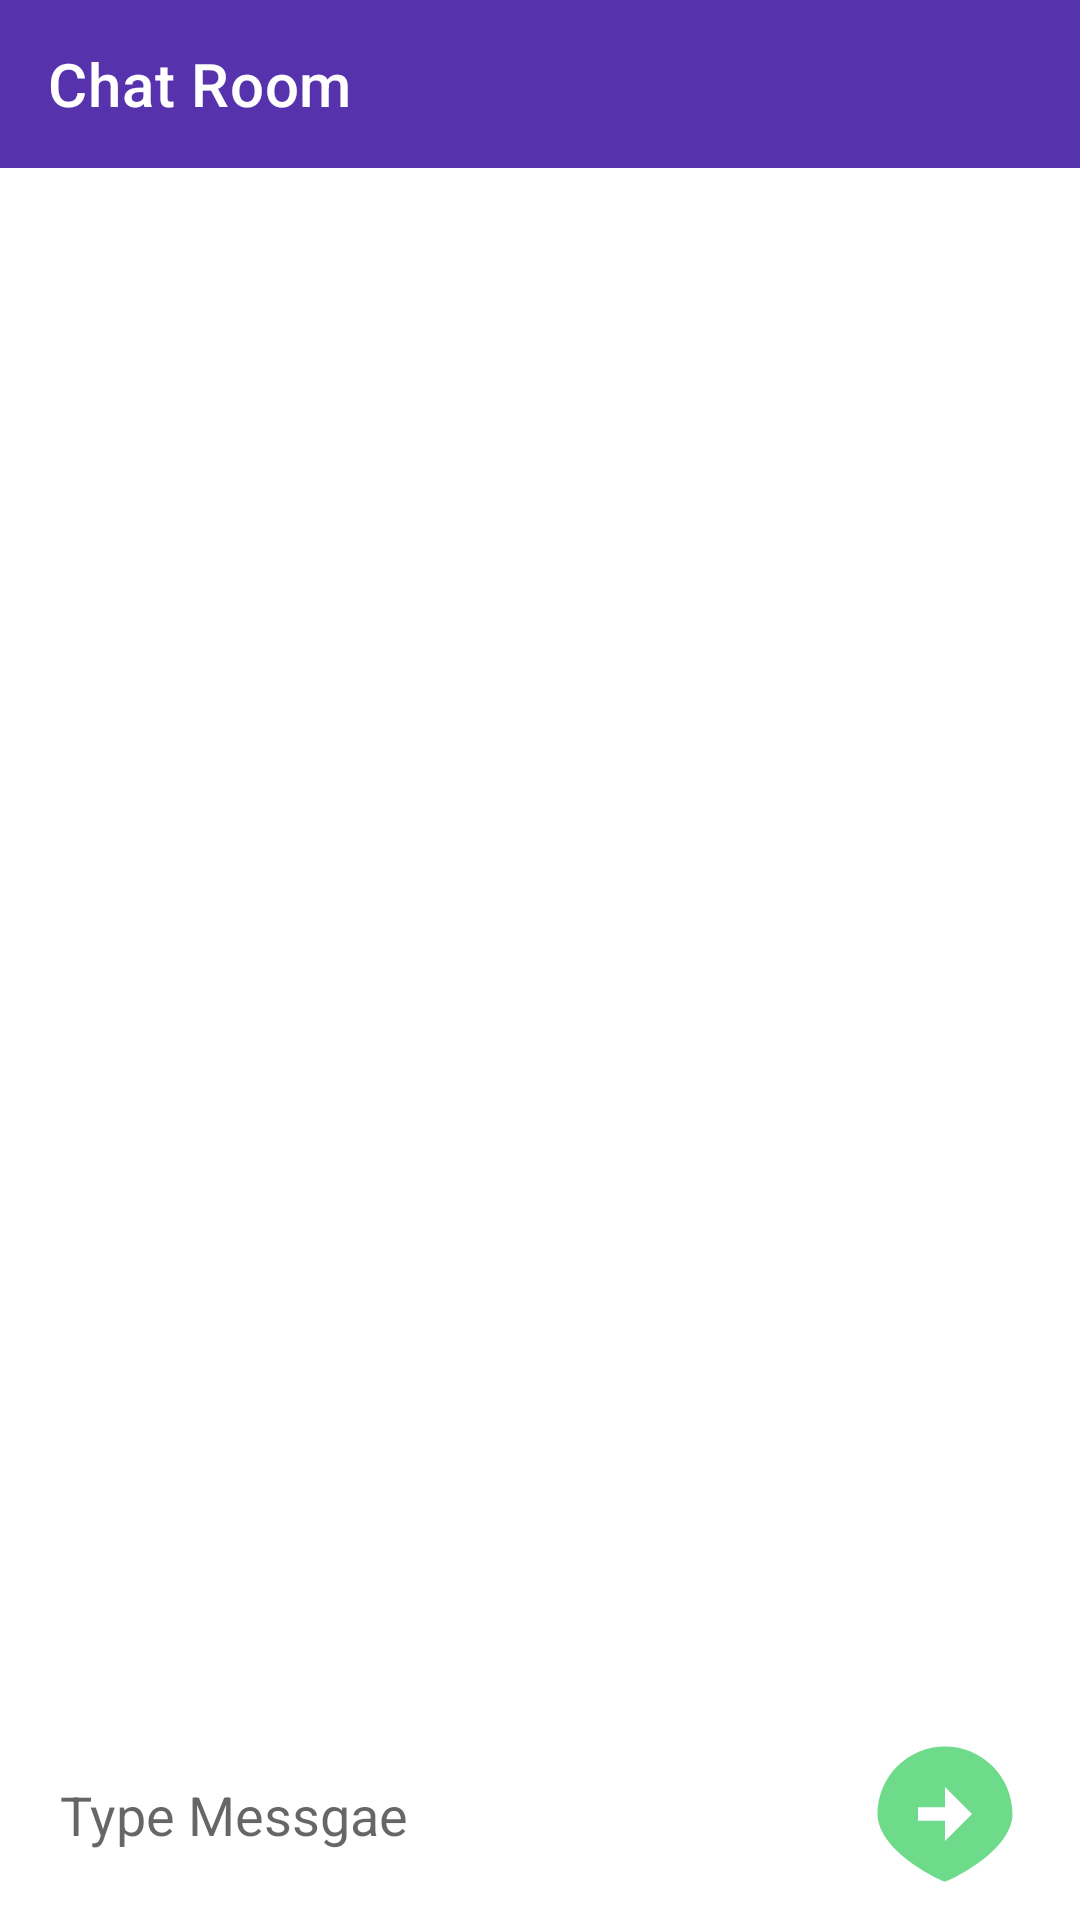

Named icons in this screenshot (1080×1920) and their centers, [x,y]:
arrow circle right: [945,1814]
